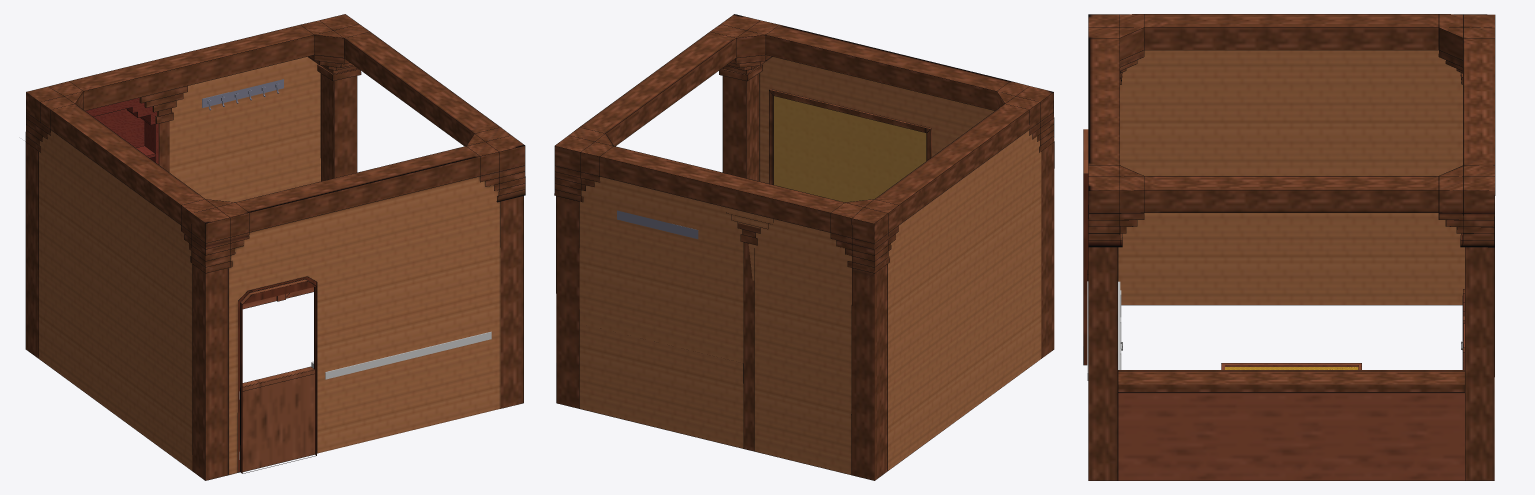
The model's file is YGC_5_8_update (1).fbx.
3 views of the same model, side by side, from view 1: azimuth 30°, elevation 25°; view 2: azimuth 150°, elevation 25°; view 3: azimuth 270°, elevation 25° (orthographic). The views are drawn at different scales.
Visible parts, largest first — view 1: New_YGC, Wireframe_YGC, Bottom_door, New_shelf, Counter_quests, Hooks; view 2: New_YGC, Wireframe_YGC, Hooks; view 3: New_YGC, Wireframe_YGC, Coin_drawer, Counter_quests.
Boxes of the visible parts, x1,y1,x2,y2 form: New_YGC: (26, 14, 525, 480); Wireframe_YGC: (25, 14, 525, 480); Bottom_door: (240, 366, 314, 471); New_shelf: (85, 97, 158, 164); Counter_quests: (311, 331, 491, 379); Hooks: (202, 79, 283, 110); New_YGC: (554, 14, 1054, 480); Wireframe_YGC: (554, 14, 1054, 480); Hooks: (617, 210, 698, 239); New_YGC: (1083, 14, 1494, 480); Wireframe_YGC: (1083, 14, 1495, 480); Coin_drawer: (1221, 363, 1361, 369); Counter_quests: (1087, 281, 1122, 380).
Bounding box in the file's own units: 1900 × 1461 × 1986.
